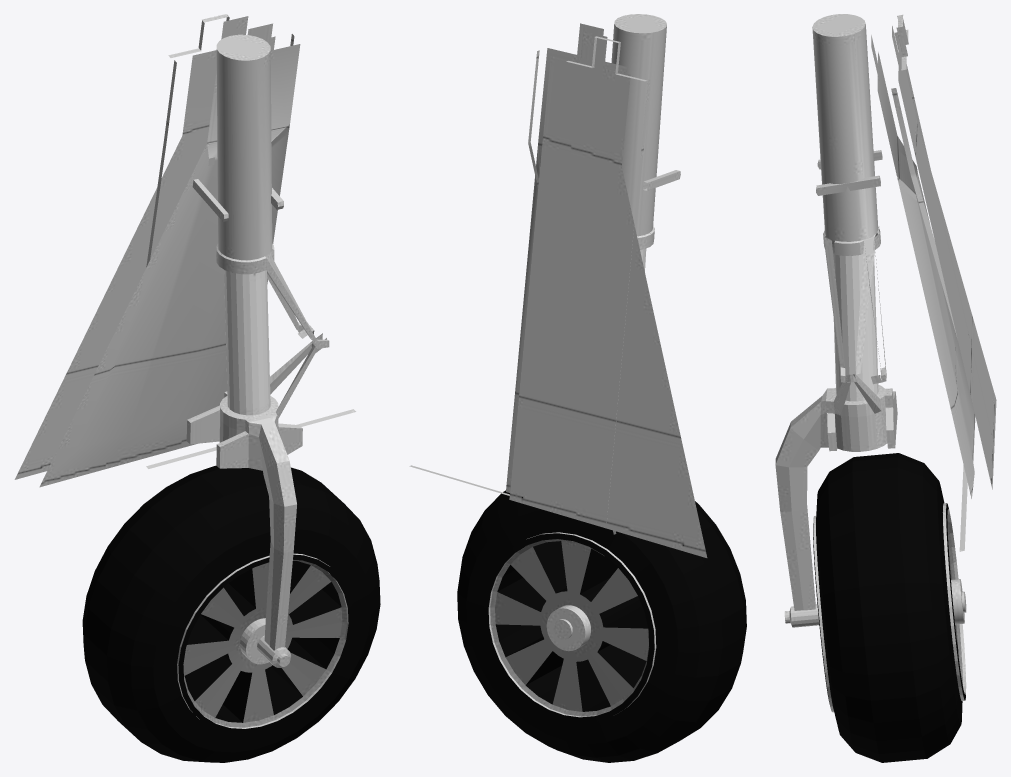
Rendered from p51d_Lgear.FBX.
The picture shows the model from 3 angles, left to right: view 1: azimuth 30°, elevation 25°; view 2: azimuth 150°, elevation 25°; view 3: azimuth 270°, elevation 25°; orthographic projection. The views are drawn at different scales.
Parts seen in each view (by area): view 1: Lwheel, Null_2, LsuspArm; view 2: Null_2, Lwheel; view 3: Lwheel, Null_2, LsuspArm.
Part boxes in pixels (<box>): Lwheel: <box>82,465,380,762</box>; Null_2: <box>14,14,355,487</box>; LsuspArm: <box>186,253,329,667</box>; Null_2: <box>409,14,707,651</box>; Lwheel: <box>457,490,746,762</box>; Lwheel: <box>813,453,966,762</box>; Null_2: <box>812,14,996,624</box>; LsuspArm: <box>775,237,897,627</box>.
Size of the model in its own units: 38.42 by 83.77 by 23.22.
